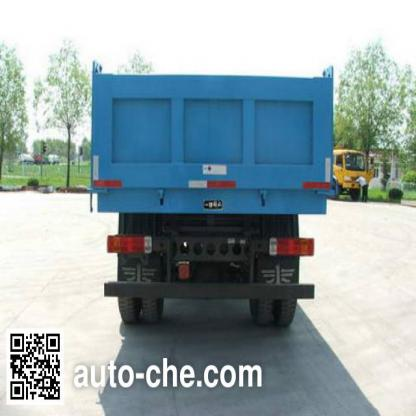normal-truck: (67, 60, 339, 345)
